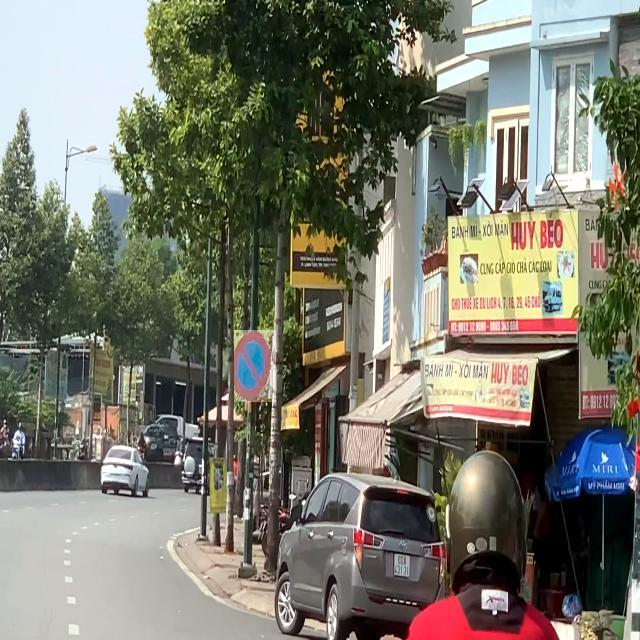P-131a: (234, 330, 276, 402)
